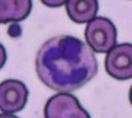N: (34, 35, 98, 91)
